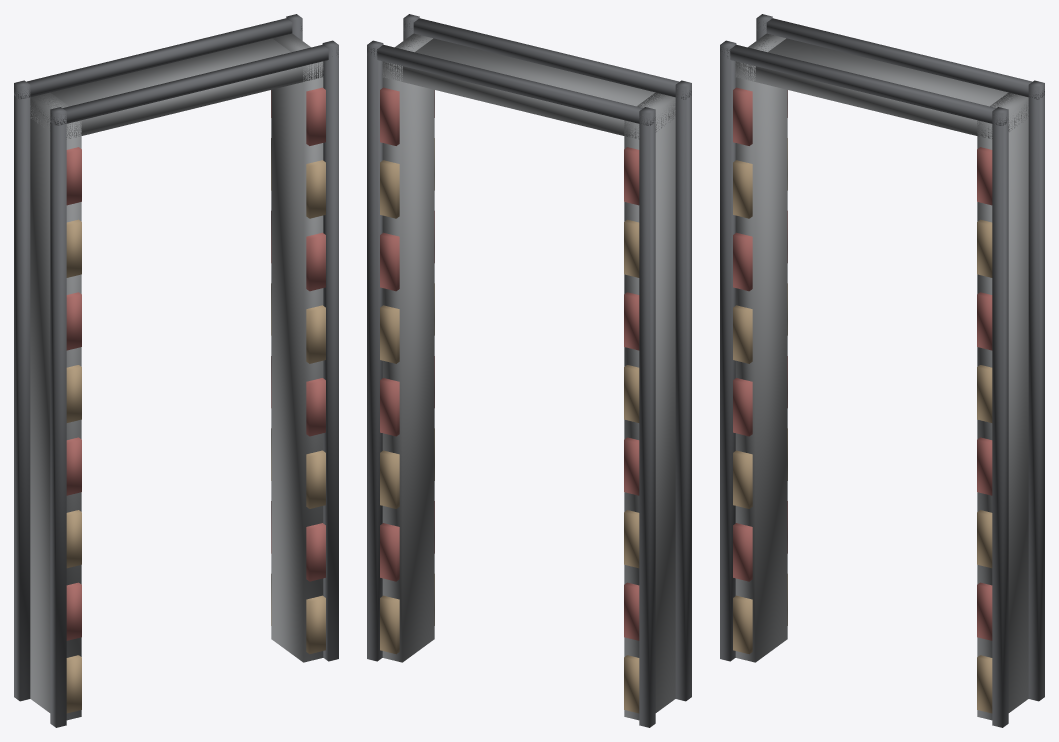
The model's file is doorway_brick_return_w96_h240_d24.glb.
The picture shows the model from 3 angles, left to right: view 1: azimuth 30°, elevation 25°; view 2: azimuth 150°, elevation 25°; view 3: azimuth 330°, elevation 25°; orthographic projection.
Parts seen in each view (by area): view 1: world; view 2: world; view 3: world.
Part boxes in pixels (box(x1,y1,x2,y2)): world: box(14, 14, 338, 727); world: box(367, 14, 691, 727); world: box(720, 14, 1044, 727).
Size of the model in its own units: 1.22 by 2.54 by 0.3165.
